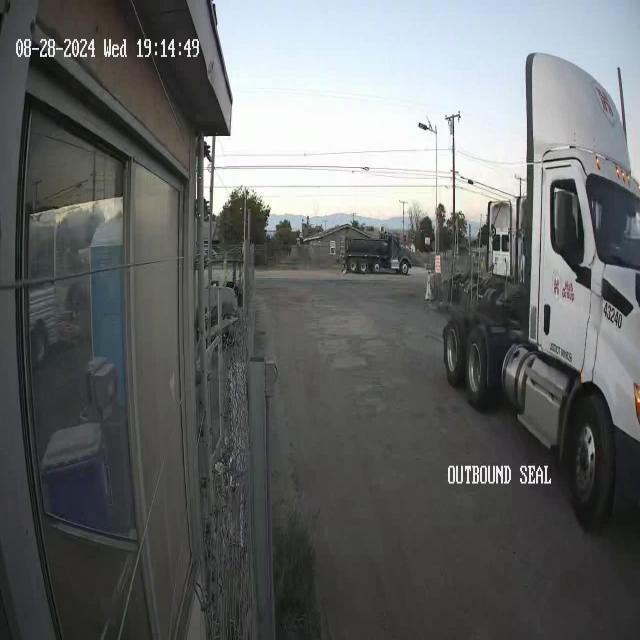TRUCK_IN: (441, 49, 639, 530)
